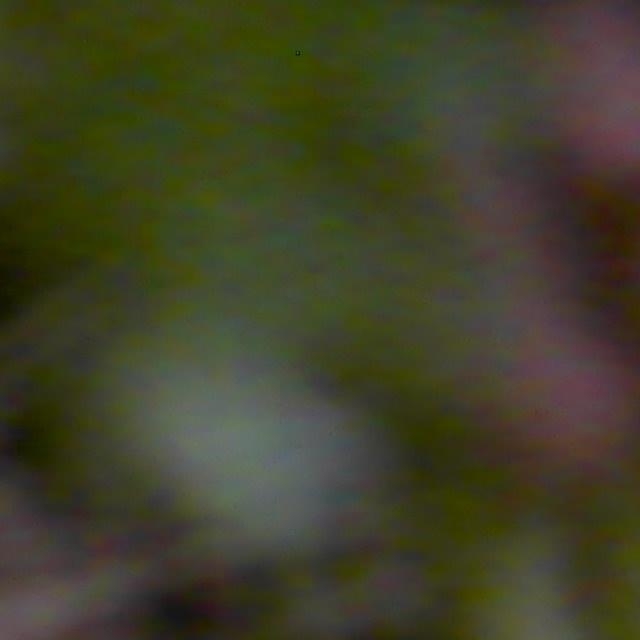SeaGrape: (493, 321, 635, 498), (548, 0, 640, 207)
